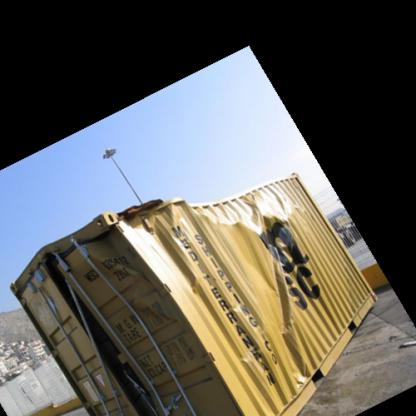Damage: (47, 250, 172, 412), (247, 202, 304, 373)
